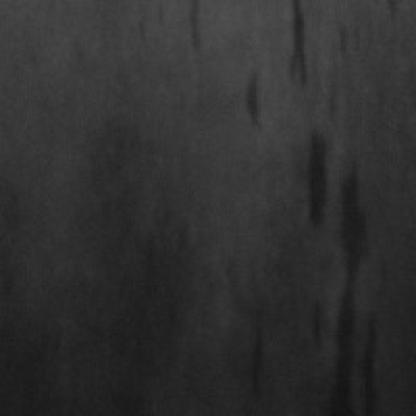inclusion: (326, 144, 380, 416), (285, 123, 335, 243), (228, 318, 276, 406), (274, 4, 314, 98), (235, 69, 273, 135), (174, 3, 208, 64)
